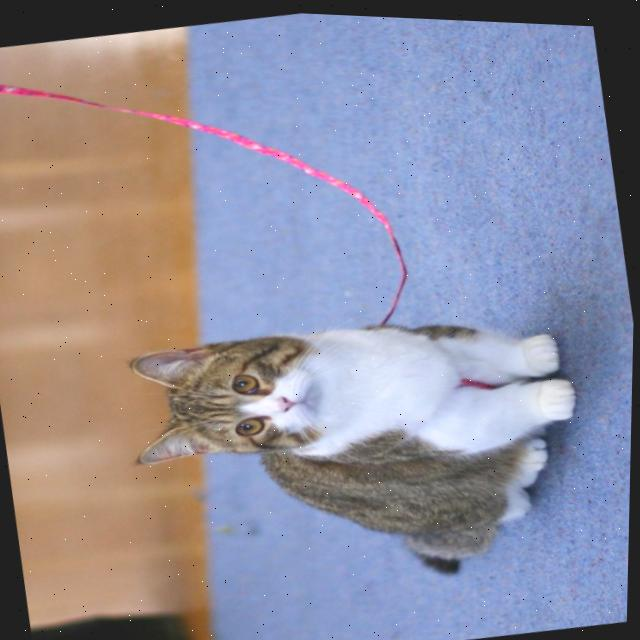Munchkin: (111, 274, 609, 629)
